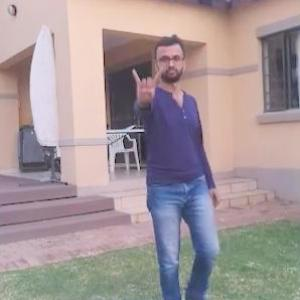takeoff-hand: (127, 60, 166, 113)
